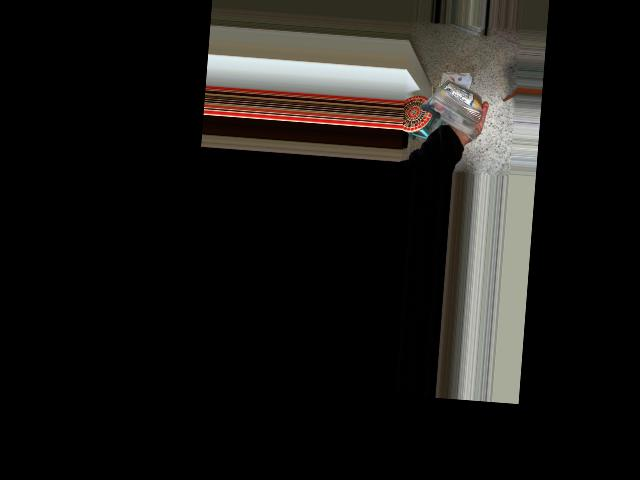cheese: (440, 64, 473, 130)
